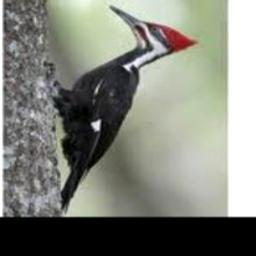Woodpecker: (52, 5, 200, 213)
